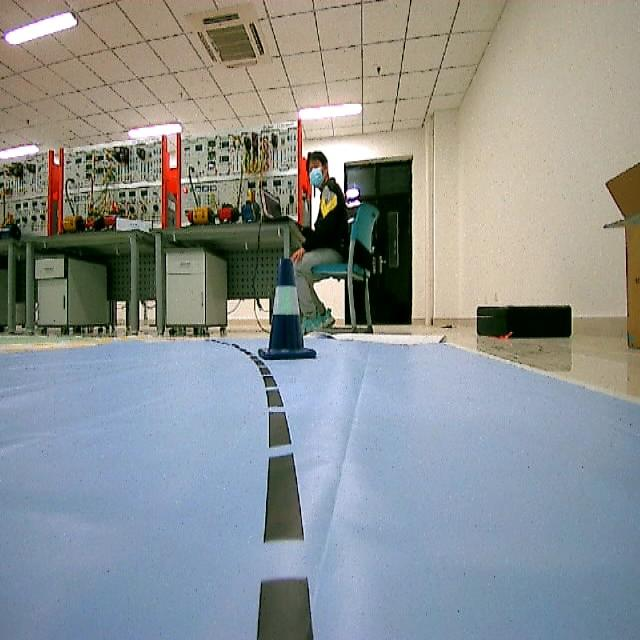obstacle: (266, 253, 317, 361)
